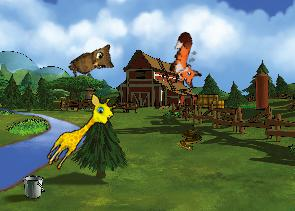fox: (163, 30, 212, 90)
giraffe: (42, 88, 120, 178)
owl: (66, 39, 120, 88)
